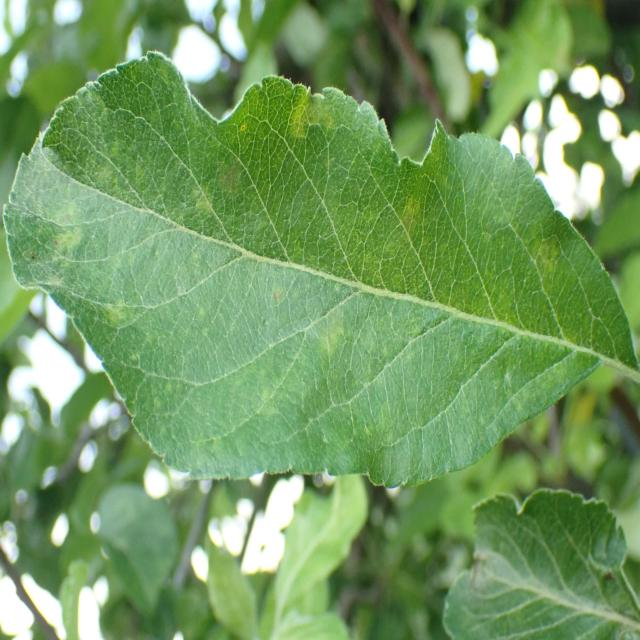scab: (9, 93, 578, 456)
